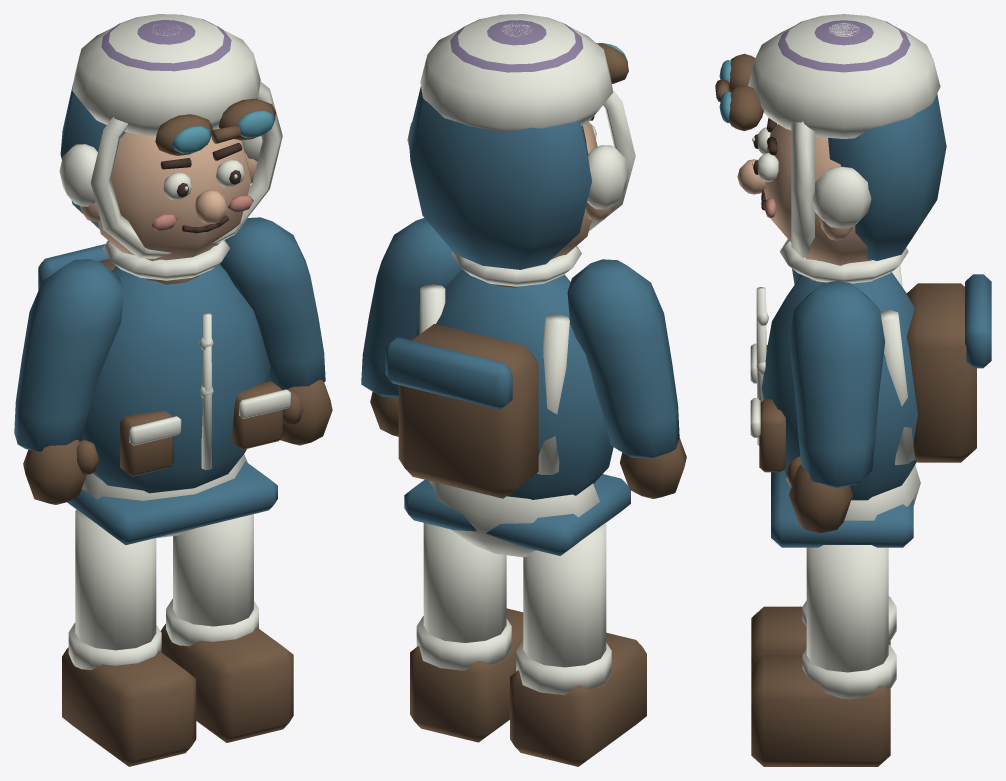
Rendered from world13-winter-travellers.glb.
3 renders of one model, left to right at view 1: azimuth 30°, elevation 25°; view 2: azimuth 150°, elevation 25°; view 3: azimuth 270°, elevation 25°, orthographic. The views are drawn at different scales.
Parts seen in each view (by area): view 1: winter-traveller-hood-body-teal, winter-traveller-hood-stable-lower-ivory, winter-traveller-hood-stable-lower-leather, winter-traveller-hood-left-arm-teal, winter-traveller-goggles-head-ivory, winter-traveller-hood-head-skin, winter-traveller-hood-right-arm-teal, winter-traveller-hood-head-ivory, winter-traveller-hood-body-leather, winter-traveller-hood-body-ivory, winter-traveller-hood-left-arm-leather, winter-traveller-earmuffs-head-lilac (+9 smaller); view 2: winter-traveller-hood-stable-lower-ivory, winter-traveller-hood-body-teal, winter-traveller-hood-head-teal, winter-traveller-hood-stable-lower-leather, winter-traveller-hood-body-leather, winter-traveller-goggles-head-ivory, winter-traveller-hood-left-arm-teal, winter-traveller-hood-right-arm-teal, winter-traveller-hood-body-ivory, winter-traveller-earmuffs-head-lilac, winter-traveller-hood-left-arm-leather, winter-traveller-hood-shoulders-ivory (+5 smaller); view 3: winter-traveller-hood-body-teal, winter-traveller-hood-right-arm-teal, winter-traveller-goggles-head-ivory, winter-traveller-hood-stable-lower-leather, winter-traveller-hood-stable-lower-ivory, winter-traveller-hood-body-leather, winter-traveller-hood-head-teal, winter-traveller-hood-head-skin, winter-traveller-hood-body-ivory, winter-traveller-hood-head-ivory, winter-traveller-hood-right-arm-leather, winter-traveller-earmuffs-head-ivory (+5 smaller).
Part boxes in pixels (bbox=[...]): winter-traveller-hood-body-teal: bbox=[38, 244, 277, 545]; winter-traveller-hood-stable-lower-ivory: bbox=[68, 454, 258, 669]; winter-traveller-hood-stable-lower-leather: bbox=[62, 624, 293, 766]; winter-traveller-hood-left-arm-teal: bbox=[14, 259, 123, 451]; winter-traveller-goggles-head-ivory: bbox=[72, 14, 260, 136]; winter-traveller-hood-head-skin: bbox=[80, 128, 257, 261]; winter-traveller-hood-right-arm-teal: bbox=[219, 217, 325, 389]; winter-traveller-hood-head-ivory: bbox=[90, 81, 282, 258]; winter-traveller-hood-body-leather: bbox=[98, 259, 283, 476]; winter-traveller-hood-body-ivory: bbox=[129, 313, 290, 469]; winter-traveller-hood-left-arm-leather: bbox=[23, 439, 99, 504]; winter-traveller-earmuffs-head-lilac: bbox=[101, 17, 231, 71]; winter-traveller-hood-stable-lower-ivory: bbox=[416, 481, 611, 695]; winter-traveller-hood-body-teal: bbox=[385, 269, 630, 555]; winter-traveller-hood-head-teal: bbox=[408, 86, 591, 269]; winter-traveller-hood-stable-lower-leather: bbox=[410, 608, 646, 766]; winter-traveller-hood-body-leather: bbox=[398, 324, 538, 498]; winter-traveller-goggles-head-ivory: bbox=[420, 14, 613, 132]; winter-traveller-hood-left-arm-teal: bbox=[567, 259, 679, 458]; winter-traveller-hood-right-arm-teal: bbox=[361, 218, 462, 397]; winter-traveller-hood-body-ivory: bbox=[419, 284, 569, 474]; winter-traveller-earmuffs-head-lilac: bbox=[450, 17, 583, 72]; winter-traveller-hood-left-arm-leather: bbox=[620, 438, 686, 498]; winter-traveller-hood-shoulders-ivory: bbox=[451, 246, 581, 286]; winter-traveller-hood-body-teal: bbox=[761, 272, 991, 547]; winter-traveller-hood-right-arm-teal: bbox=[789, 281, 885, 487]; winter-traveller-goggles-head-ivory: bbox=[748, 14, 940, 138]; winter-traveller-hood-stable-lower-leather: bbox=[751, 606, 890, 766]; winter-traveller-hood-stable-lower-ivory: bbox=[786, 465, 920, 699]; winter-traveller-hood-body-leather: bbox=[759, 283, 976, 472]; winter-traveller-hood-head-teal: bbox=[828, 94, 946, 260]; winter-traveller-hood-head-skin: bbox=[737, 124, 871, 265]; winter-traveller-hood-body-ivory: bbox=[750, 265, 914, 465]; winter-traveller-hood-head-ivory: bbox=[791, 121, 814, 258]; winter-traveller-hood-right-arm-leather: bbox=[786, 456, 852, 533]; winter-traveller-earmuffs-head-ivory: bbox=[812, 166, 871, 228].
Bounding box in the file's own units: 1 × 2.16 × 0.7747.
